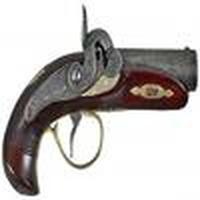gun: (4, 49, 199, 195)
